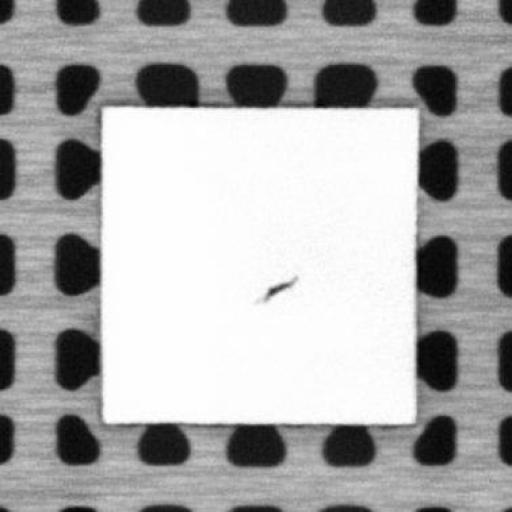DIE_INK: (257, 273, 298, 302)
